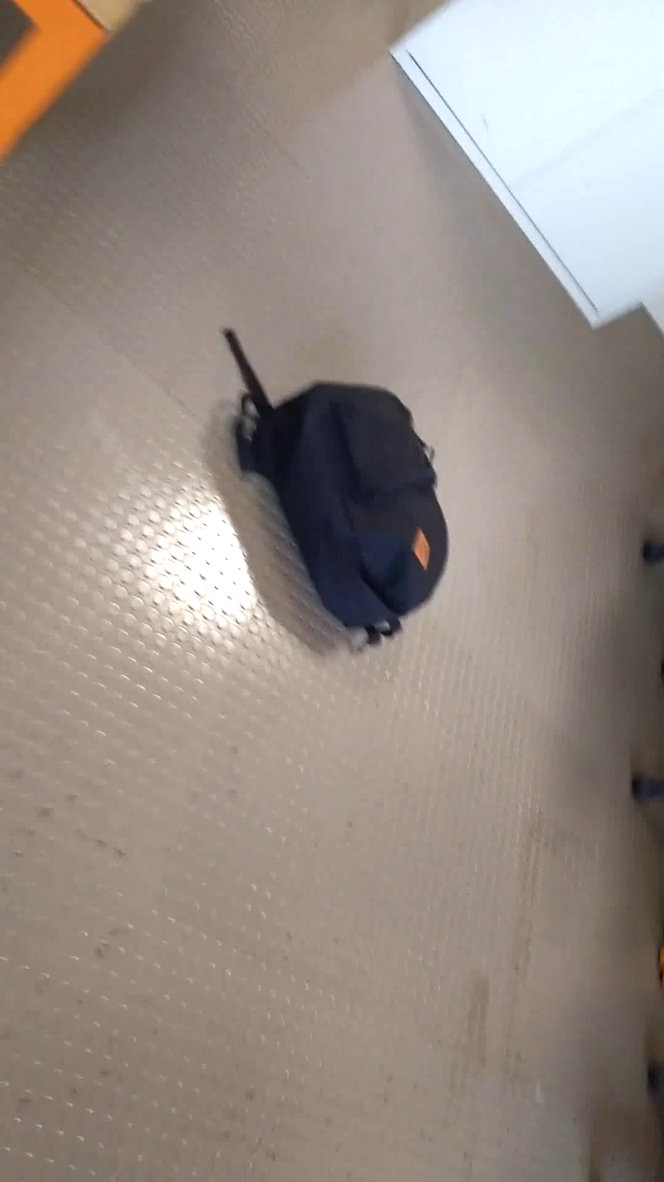bag: (217, 319, 467, 653)
